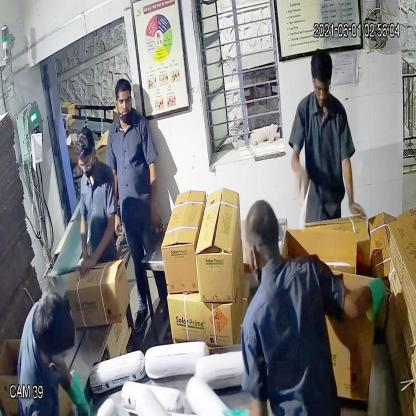goggles: (75, 150, 96, 174)
